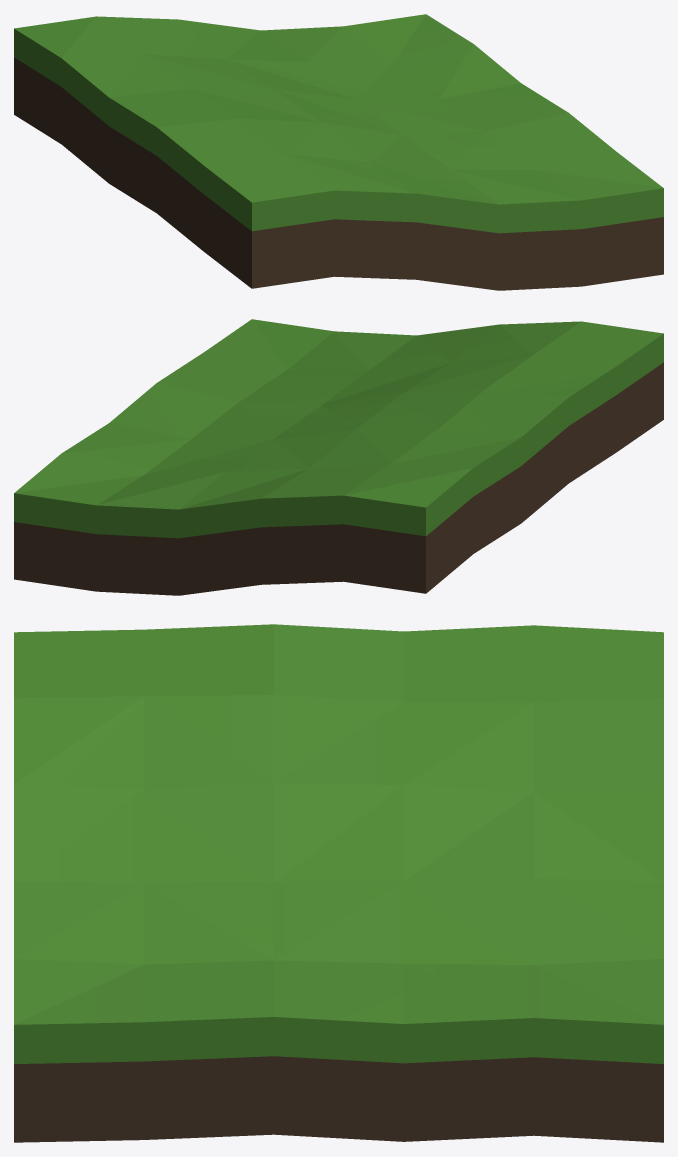
The model's file is terrains_terrain-world-slope3.fbx.
3 renders of one model, top to bottom at view 1: azimuth 30°, elevation 25°; view 2: azimuth 150°, elevation 25°; view 3: azimuth 270°, elevation 25°, orthographic. The views are drawn at different scales.
Parts seen in each view (by area): view 1: terrains_terrain_world_slope3; view 2: terrains_terrain_world_slope3; view 3: terrains_terrain_world_slope3.
Part boxes in pixels (left/top/right/bottom): terrains_terrain_world_slope3: left=14, top=14, right=663, bottom=290; terrains_terrain_world_slope3: left=14, top=319, right=663, bottom=595; terrains_terrain_world_slope3: left=14, top=624, right=663, bottom=1142.
Size of the model in its own units: 200 by 82.67 by 200.
